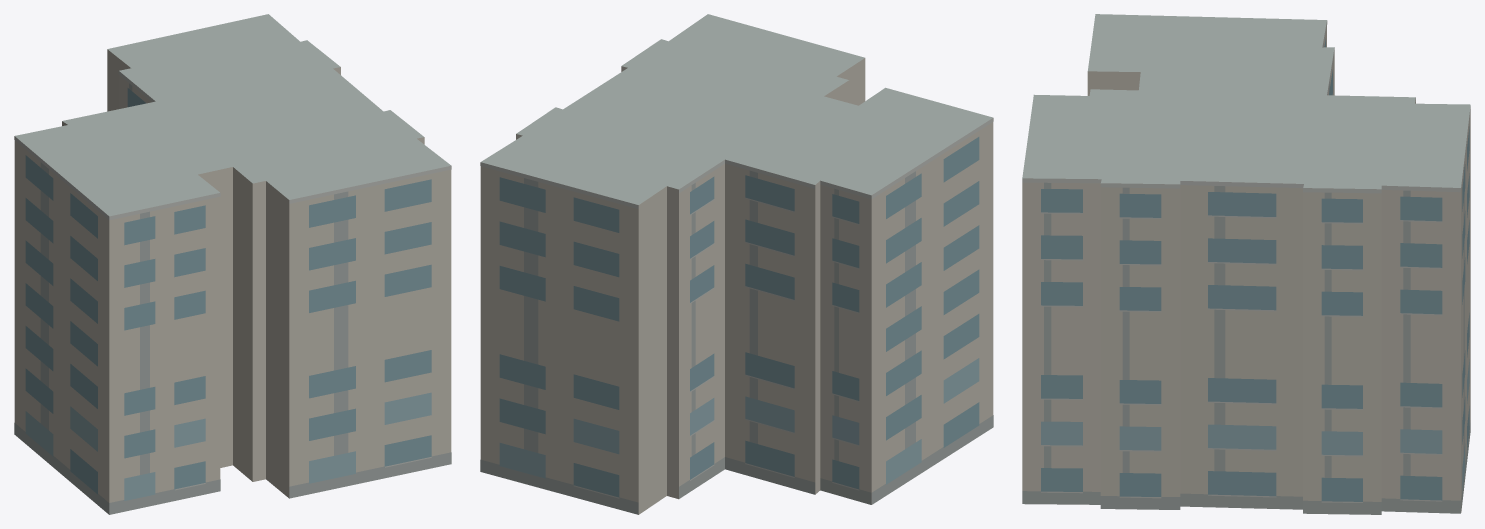
The model's file is survey-upis-32545732.glb.
The picture shows the model from 3 angles, left to right: view 1: azimuth 30°, elevation 25°; view 2: azimuth 150°, elevation 25°; view 3: azimuth 270°, elevation 25°; orthographic projection. The views are drawn at different scales.
Parts seen in each view (by area): view 1: survey-upis-32545732.tmp; view 2: survey-upis-32545732.tmp; view 3: survey-upis-32545732.tmp.
Part boxes in pixels (box(x1,y1,x2,y2)): survey-upis-32545732.tmp: box(14, 14, 451, 514); survey-upis-32545732.tmp: box(480, 14, 993, 514); survey-upis-32545732.tmp: box(1022, 14, 1470, 514).
Size of the model in its own units: 21.81 by 18.9 by 23.59.
